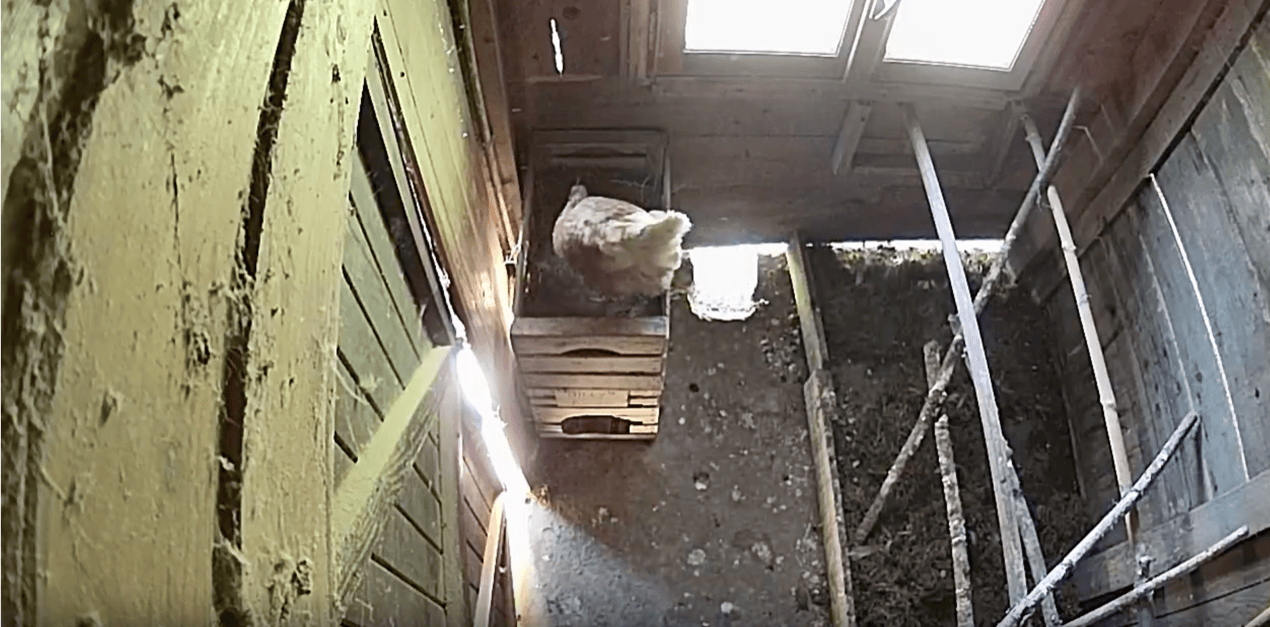chicken: (543, 174, 699, 315)
